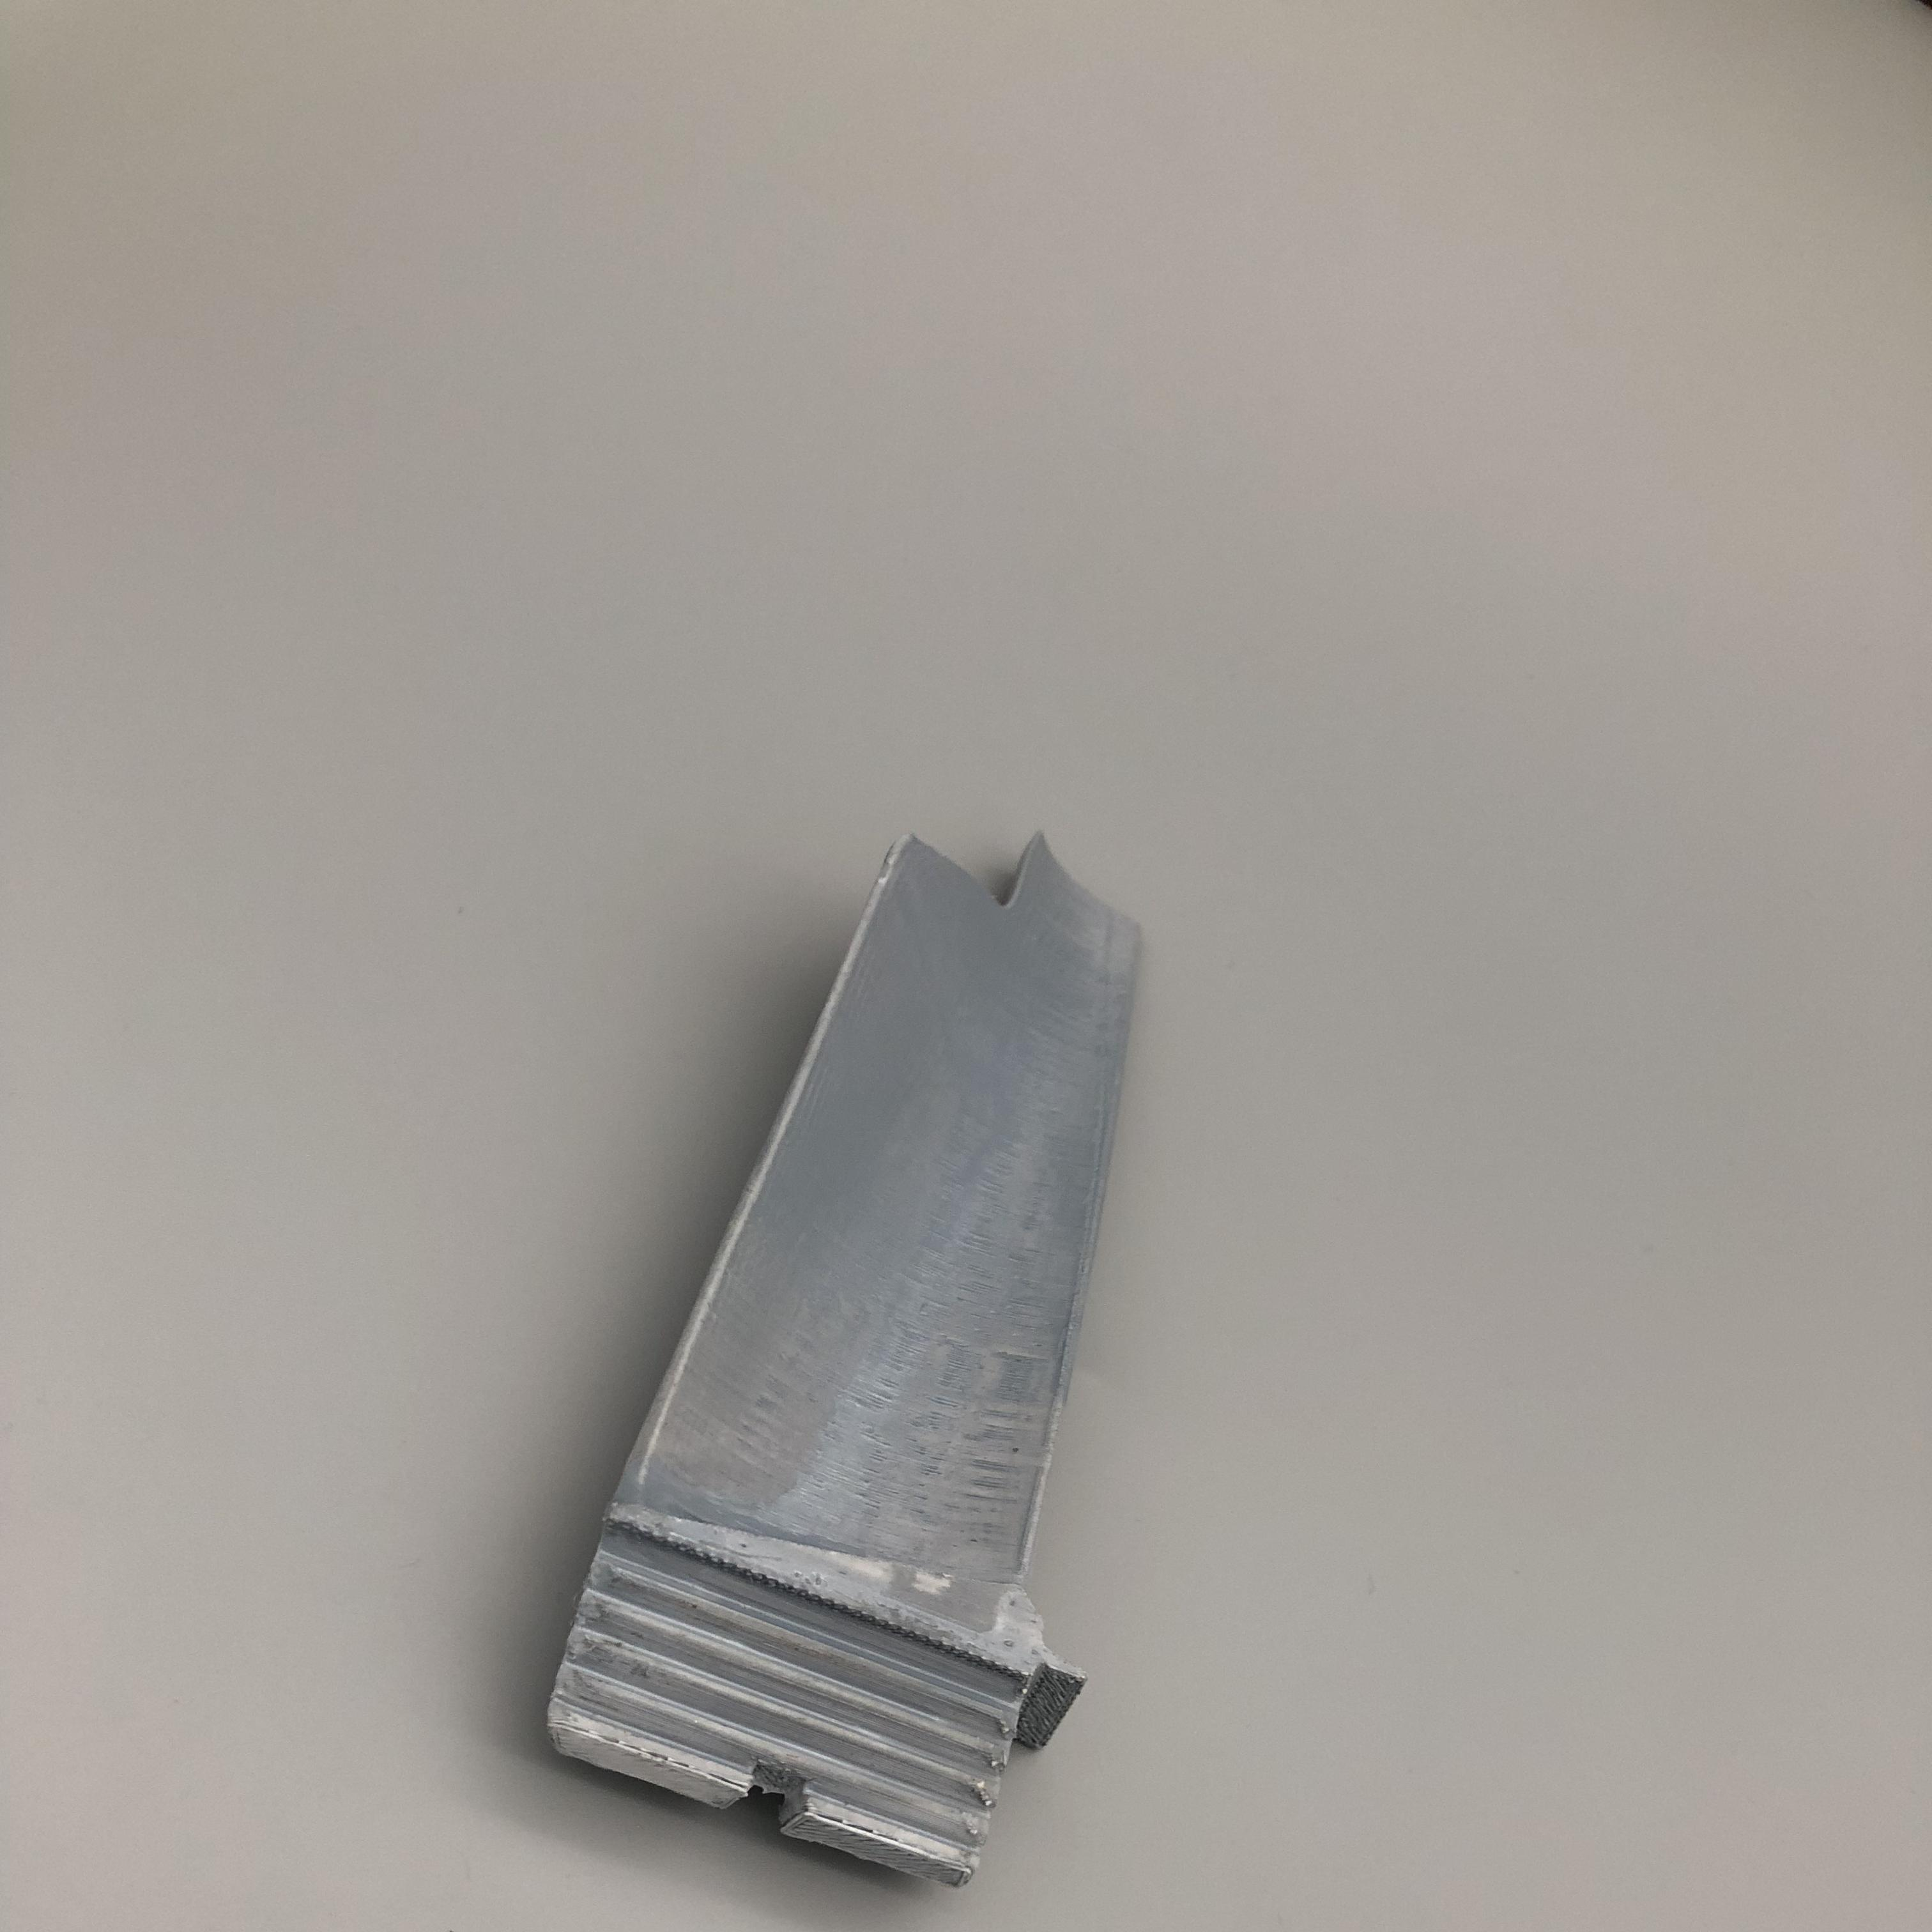fracture: (893, 814, 1065, 925)
